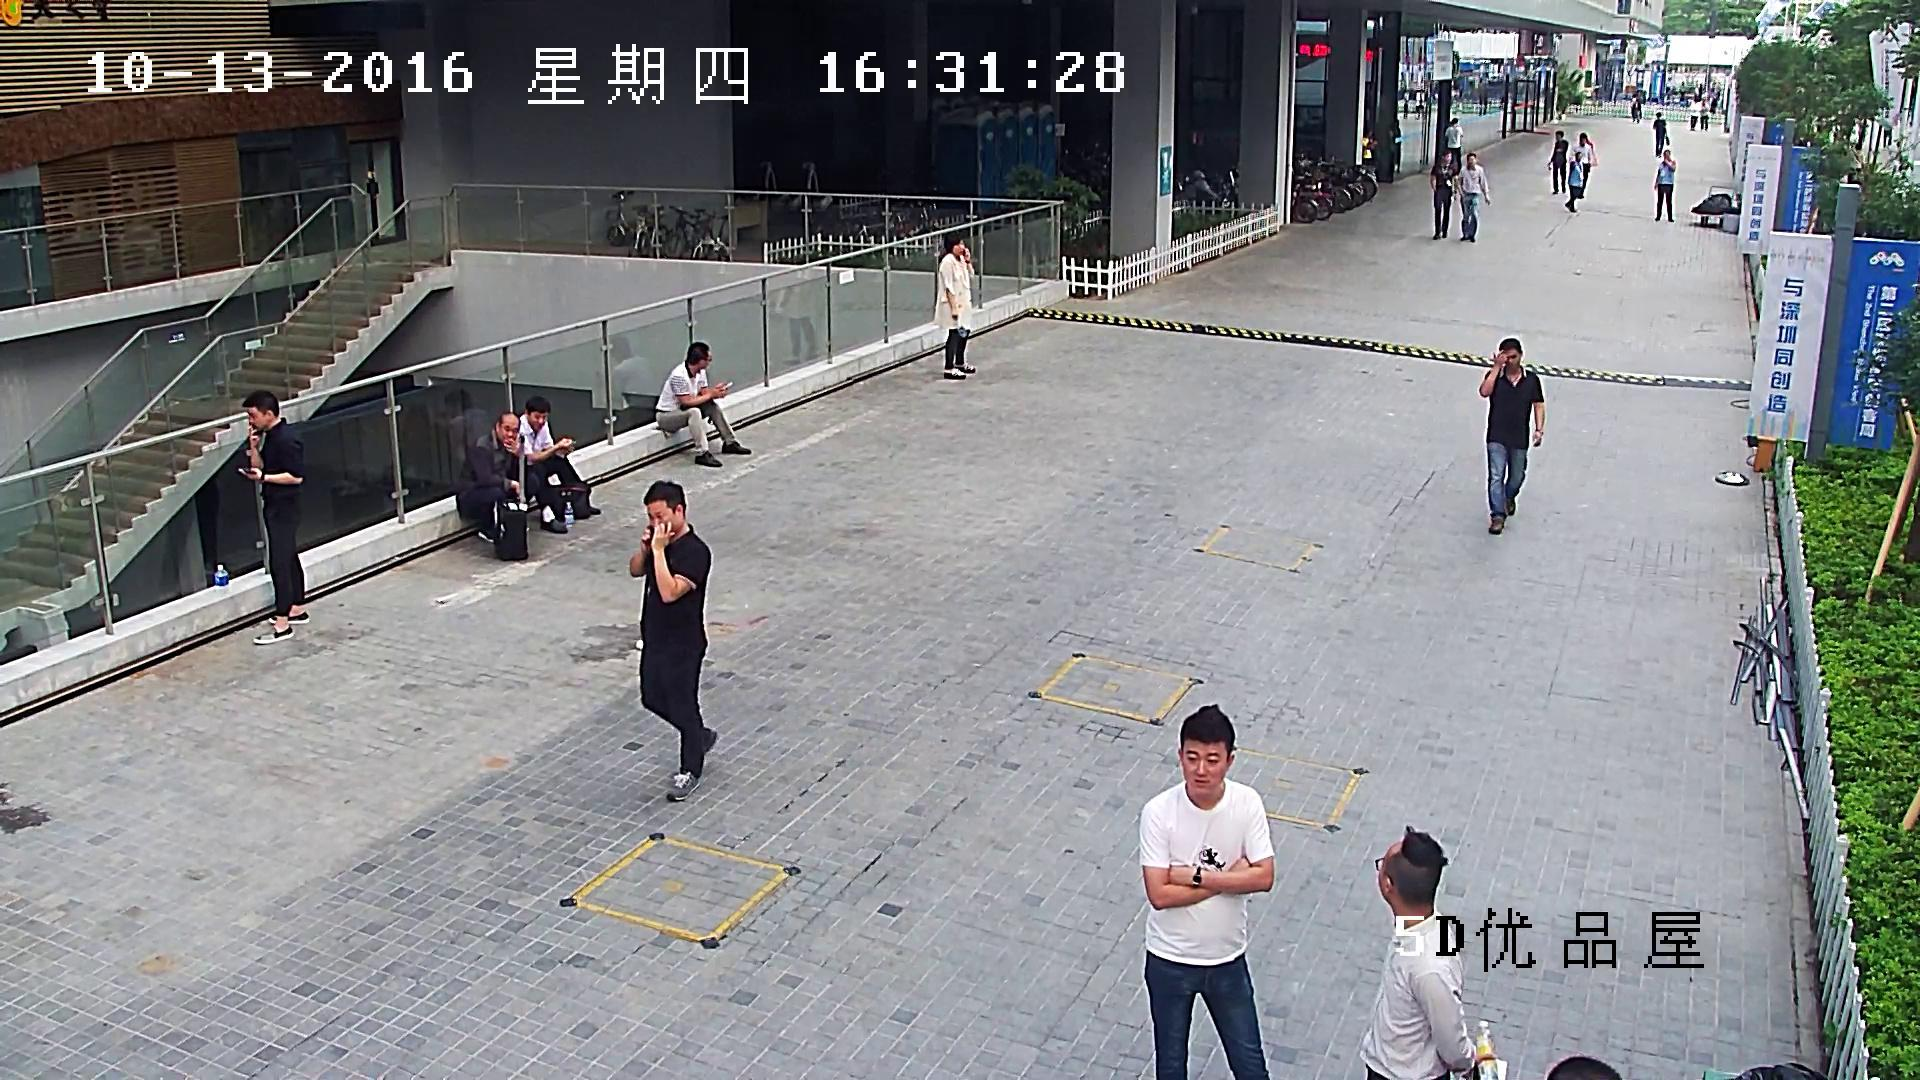person: (1139, 702, 1275, 1080), (1358, 824, 1508, 1080), (629, 479, 718, 801), (235, 390, 310, 644), (1478, 337, 1544, 533), (656, 342, 751, 466), (516, 397, 600, 533), (456, 411, 539, 542), (934, 230, 975, 378), (1457, 152, 1490, 242), (1430, 151, 1455, 239), (1570, 131, 1597, 198), (1654, 149, 1675, 222), (1547, 130, 1568, 194), (1565, 152, 1584, 212), (1444, 117, 1462, 174), (1653, 112, 1669, 157), (1690, 98, 1701, 131), (1882, 114, 1892, 147), (1630, 93, 1641, 124), (1699, 102, 1708, 130)
